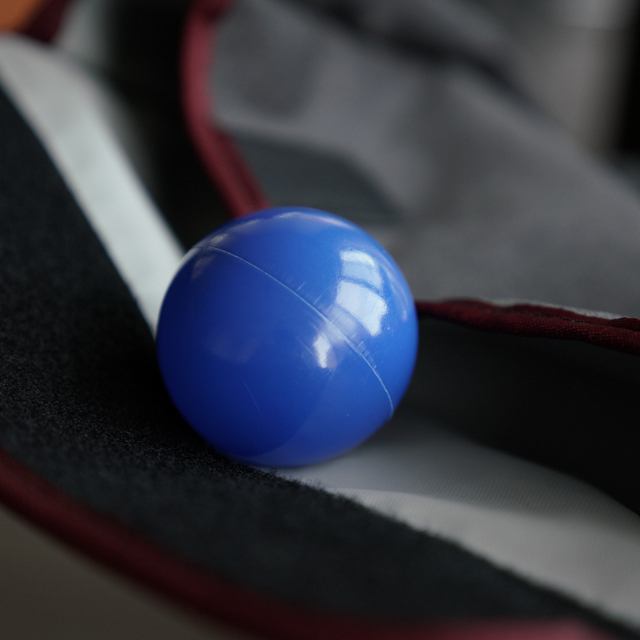Ball: (164, 205, 420, 465)
